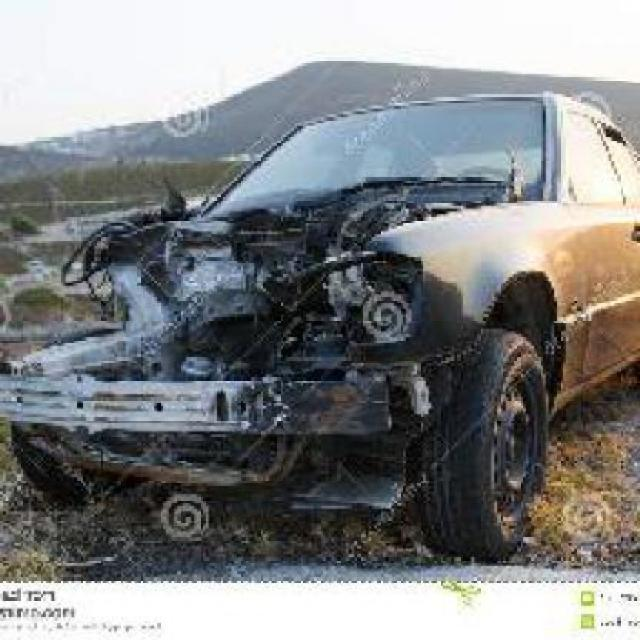damaged-front-bumper: (8, 359, 456, 504)
damaged-hood: (102, 190, 493, 238)
